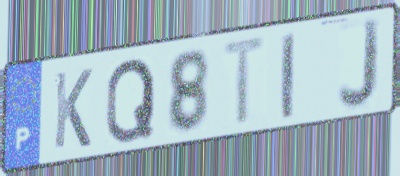8: (166, 46, 212, 136)
I: (279, 29, 297, 123)
J: (335, 16, 383, 113)
K: (52, 65, 95, 152)
Q: (103, 55, 158, 147)
T: (220, 33, 271, 131)
